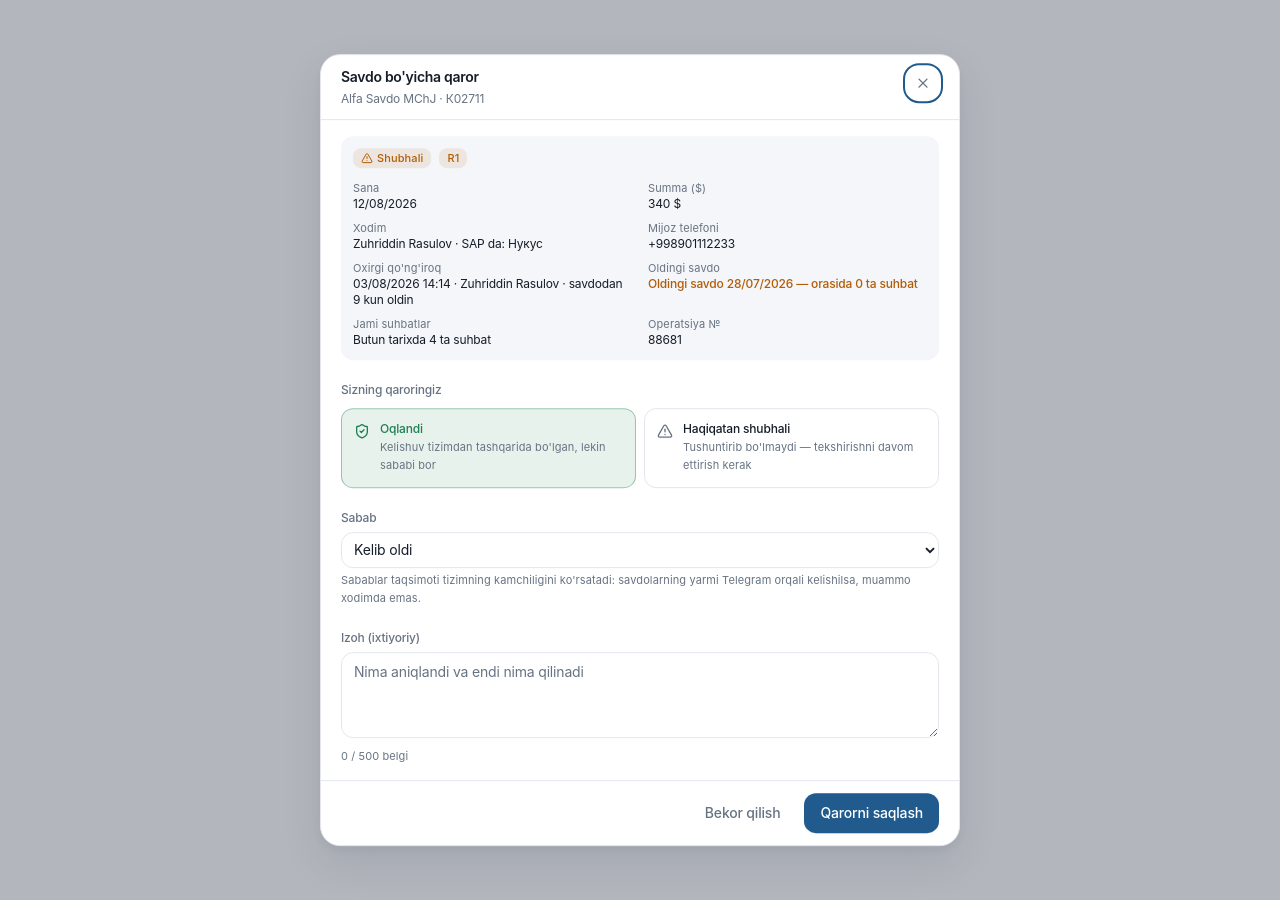
Test: confirming a sale as really suspicious › demands a note before it can be saved
This screenshot has width=1280, height=900.
Click the button "Haqiqatan shubhali": coordinates (792, 448) [644,408,939,488]
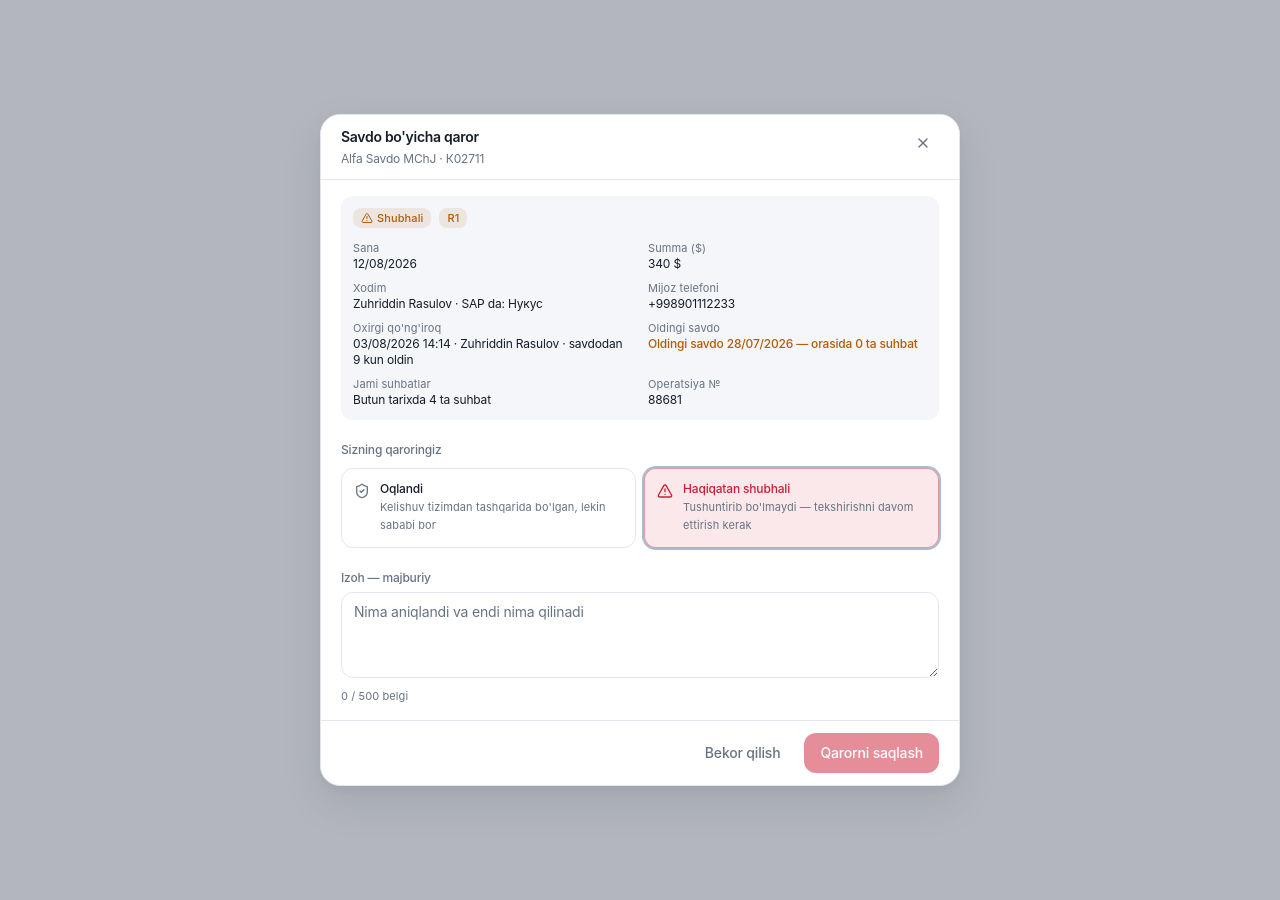
Result: the button "Qarorni saqlash" is disabled at [804,733,939,773]
In the text box labelled "Izoh — majburiy": coordinates (640, 635) [341,592,939,678], type "yo‘q"
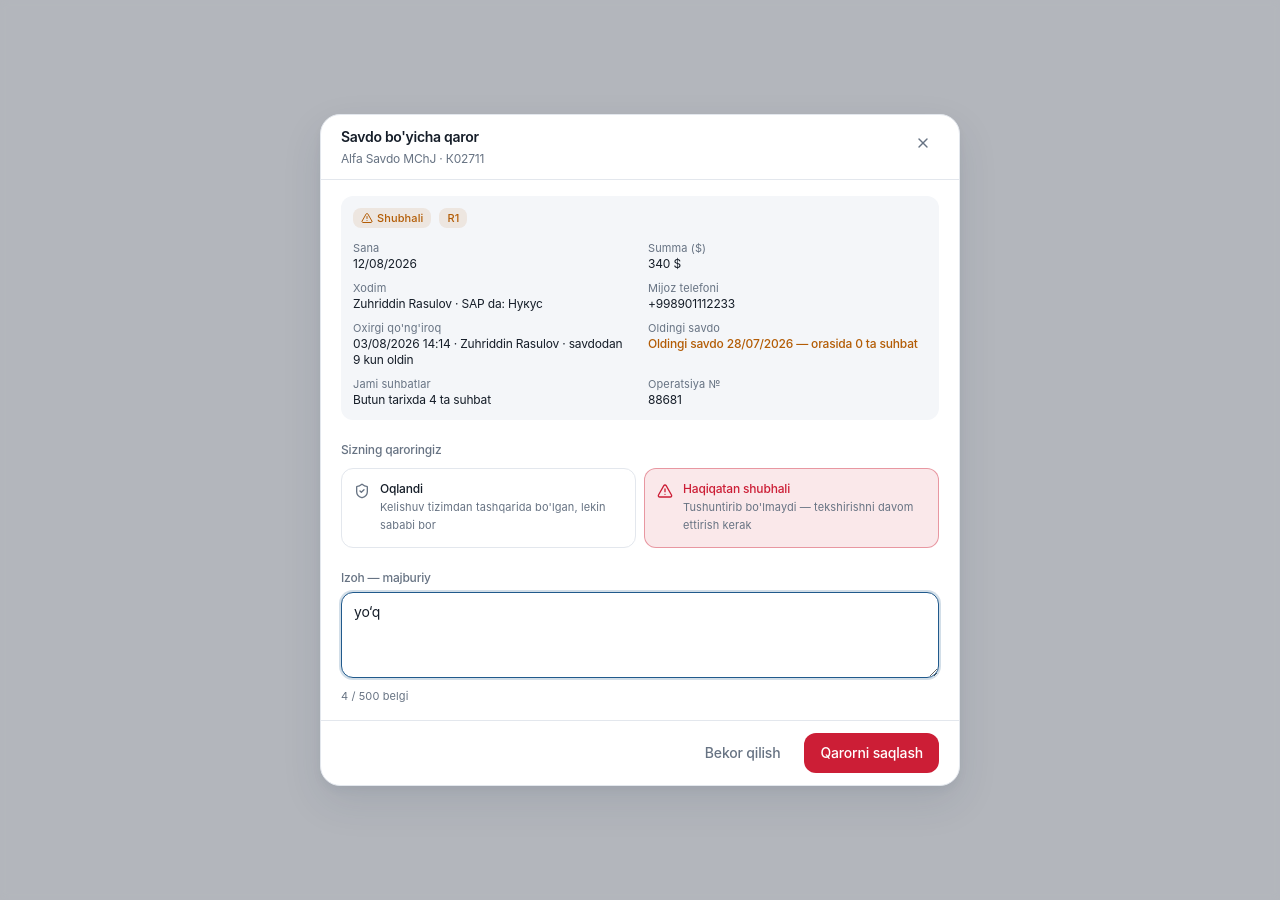
Result: the button "Qarorni saqlash" is enabled at [804,733,939,773]
